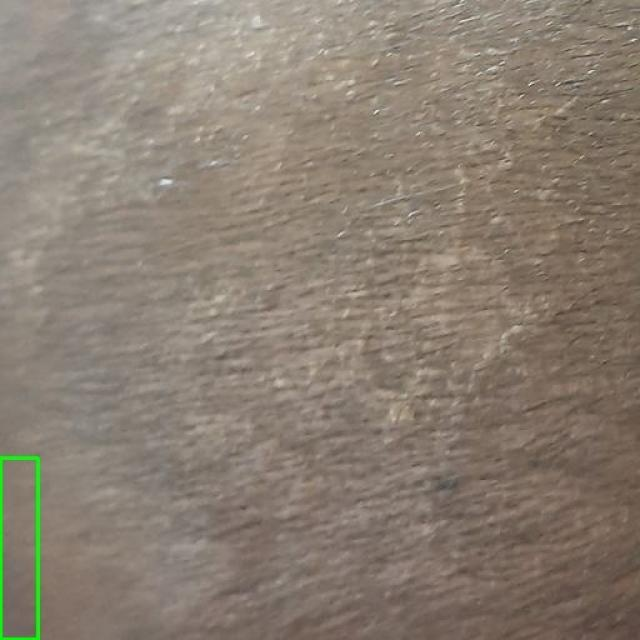Seborrheic Dermatitis: (0, 458, 38, 639)
